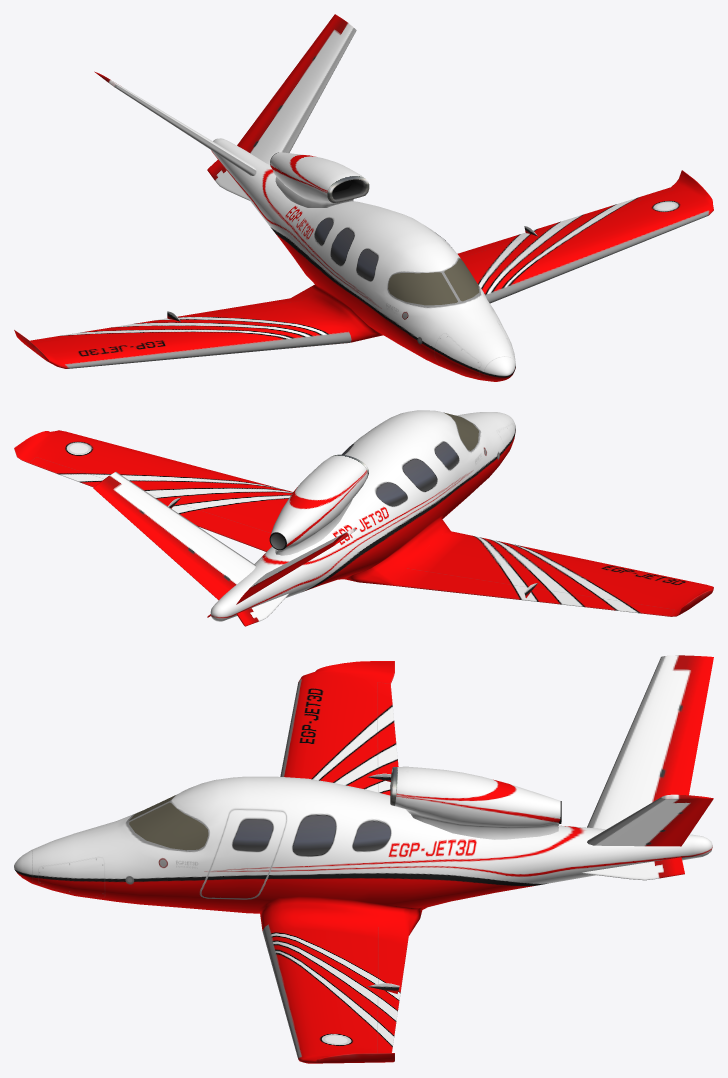
File: cirrus_sf50.glb
3 views of the same model, one above another, from view 1: azimuth 30°, elevation 25°; view 2: azimuth 150°, elevation 25°; view 3: azimuth 270°, elevation 25° (orthographic). The views are drawn at different scales.
Visible parts, largest first — view 1: GLASS_0; view 2: GLASS_0; view 3: GLASS_0.
Boxes of the visible parts, <box> form: GLASS_0: <box>14,14,713,381</box>; GLASS_0: <box>14,410,713,626</box>; GLASS_0: <box>14,655,713,1063</box>.
Bounding box in the file's own units: 13.27 × 2.97 × 10.11.
2 materials, 1 textured.
